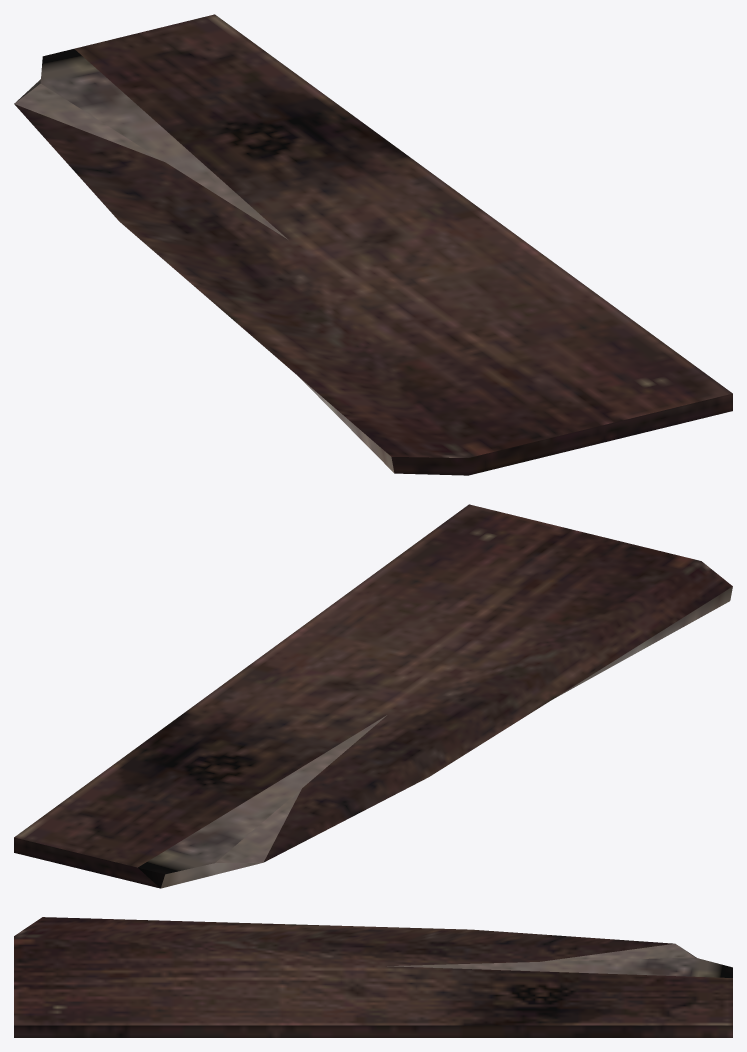
The model's file is drawer2_gib6.glb.
3 views of the same model, one above another, from view 1: azimuth 30°, elevation 25°; view 2: azimuth 150°, elevation 25°; view 3: azimuth 270°, elevation 25° (orthographic). The views are drawn at different scales.
Parts seen in each view (by area): view 1: drawer2_gib6; view 2: drawer2_gib6; view 3: drawer2_gib6.
Part boxes in pixels (x1,y1,x2,y2): drawer2_gib6: (14, 14, 732, 475); drawer2_gib6: (14, 504, 732, 888); drawer2_gib6: (14, 917, 732, 1037).
Size of the model in its own units: 0.2149 by 0.0198 by 0.6007.
1 material, 1 textured.
